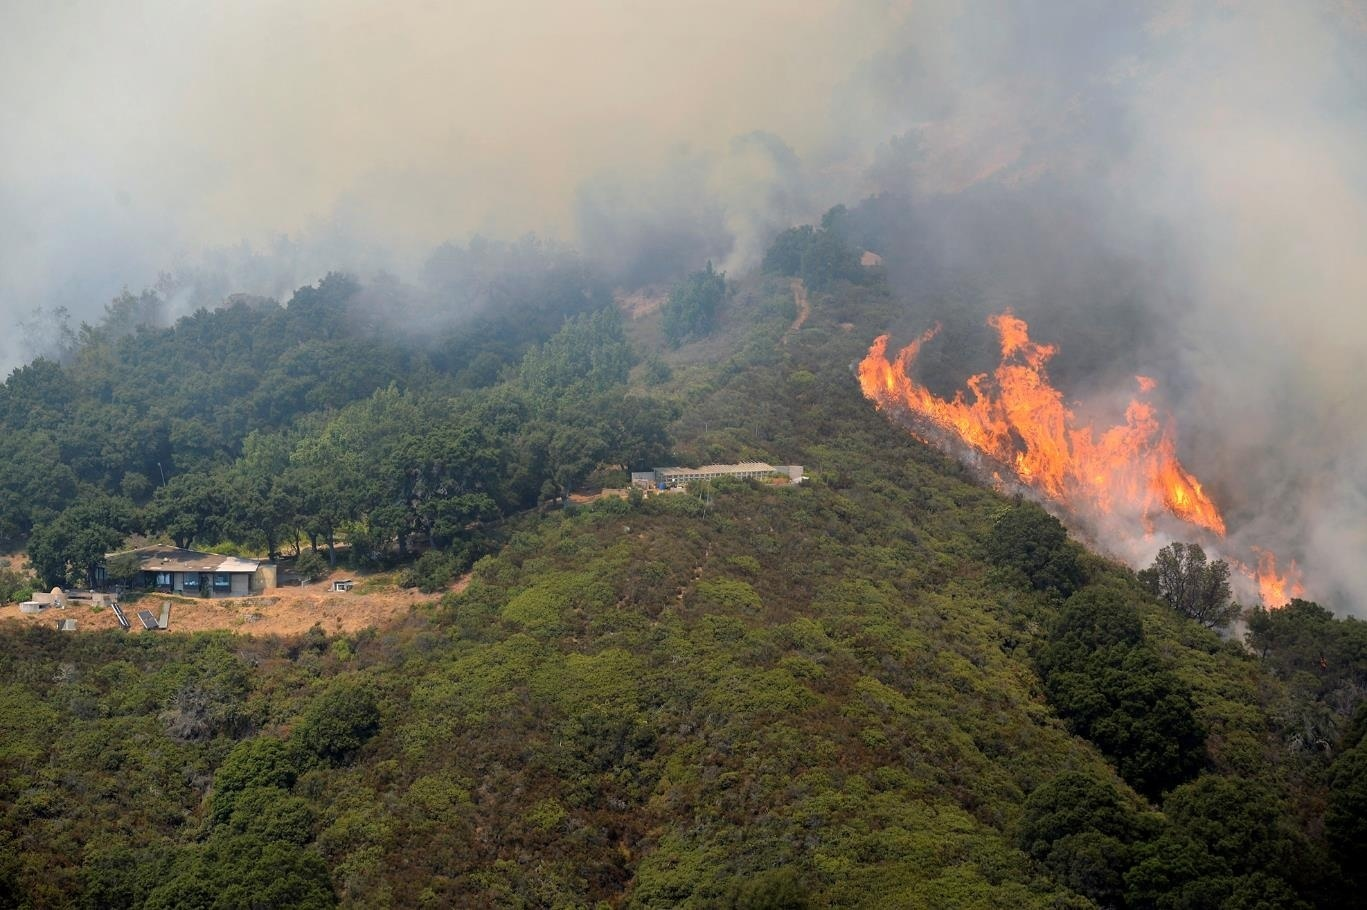fire: (853, 313, 1326, 614)
